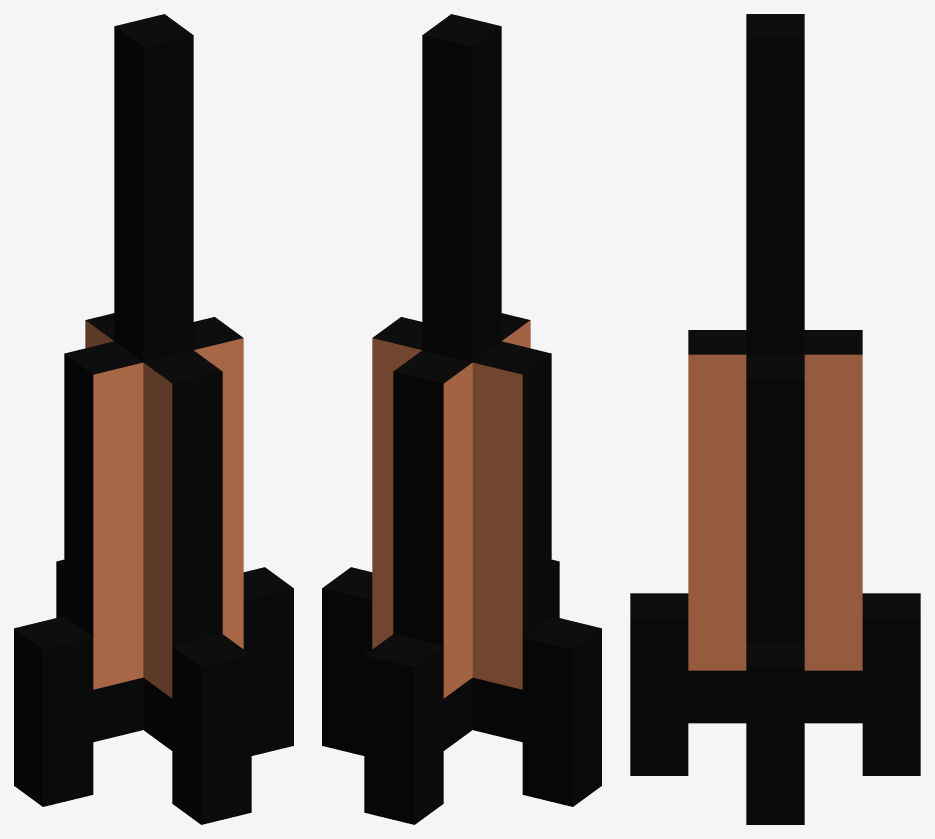
The model's file is Player Missile model.fbx.
The picture shows the model from 3 angles, left to right: view 1: azimuth 30°, elevation 25°; view 2: azimuth 150°, elevation 25°; view 3: azimuth 270°, elevation 25°; orthographic projection.
Visible parts, largest first — view 1: Missile; view 2: Missile; view 3: Missile.
Boxes of the visible parts, x1,y1,x2,y2 form: Missile: (14, 14, 293, 824); Missile: (322, 14, 601, 824); Missile: (630, 14, 920, 824).
Size of the model in its own units: 250 by 700 by 250.
